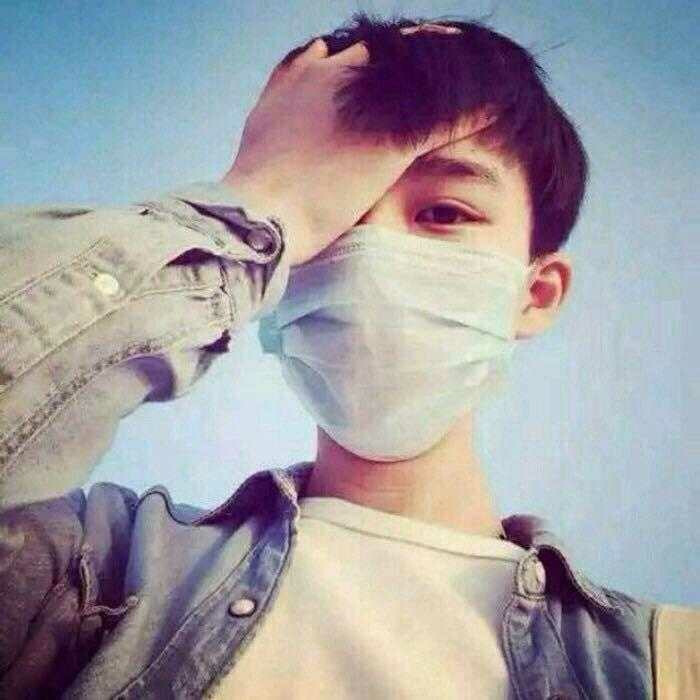mask: (252, 203, 515, 449)
